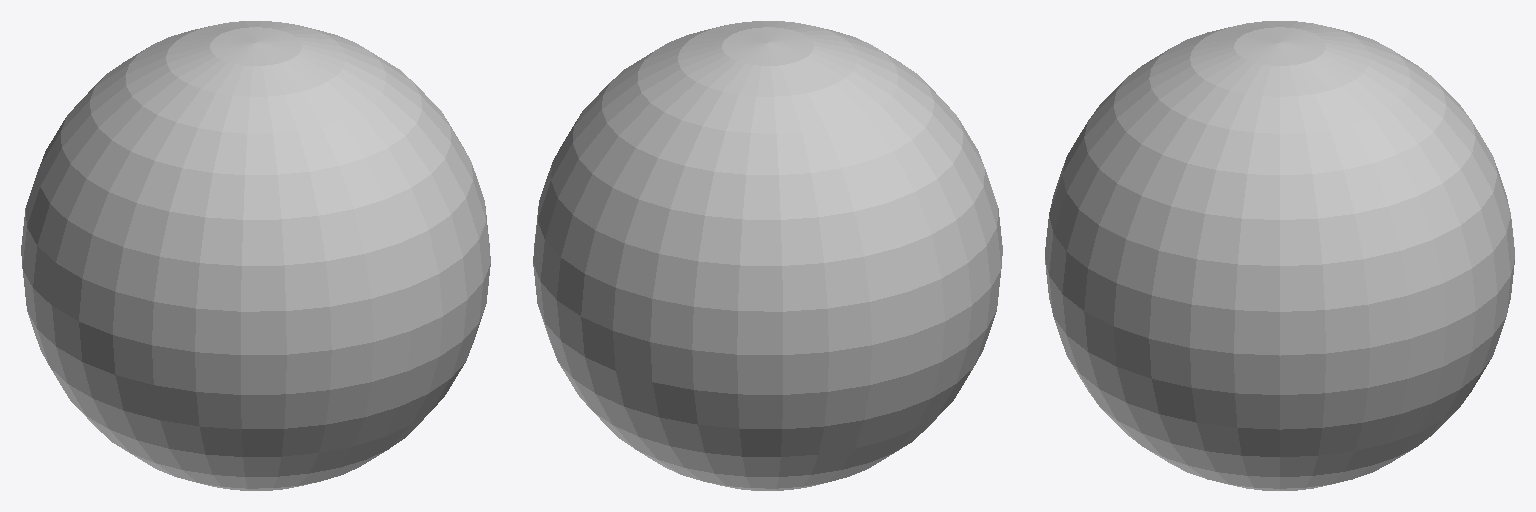
The model's file is skydome.obj.
3 views of the same model, side by side, from view 1: azimuth 30°, elevation 25°; view 2: azimuth 150°, elevation 25°; view 3: azimuth 270°, elevation 25° (orthographic).
Visible parts, largest first — view 1: Sphere; view 2: Sphere; view 3: Sphere.
Part boxes in pixels (x1,y1,x2,y2): Sphere: (21,21,490,490); Sphere: (533,21,1002,490); Sphere: (1045,21,1514,490).
Bounding box in the file's own units: 3 × 3 × 3.